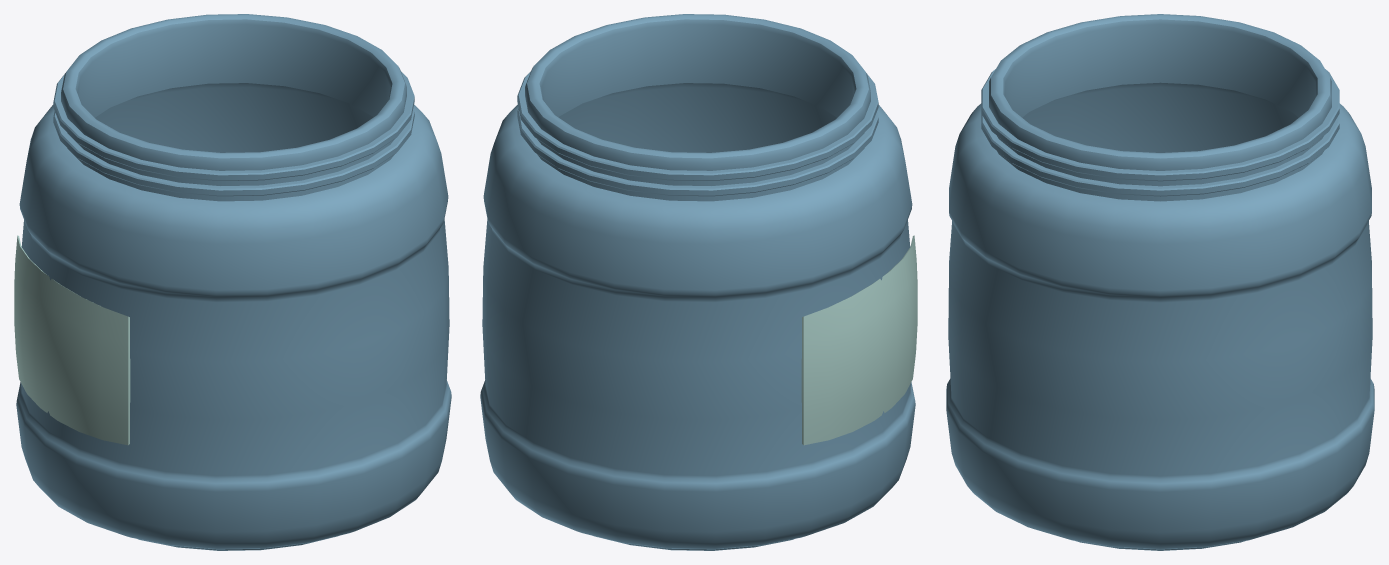
The model's file is Pot.FBX.
3 views of the same model, side by side, from view 1: azimuth 30°, elevation 25°; view 2: azimuth 150°, elevation 25°; view 3: azimuth 270°, elevation 25° (orthographic).
Visible parts, largest first — view 1: Box073; view 2: Box073; view 3: Box073.
Part boxes in pixels (<box>): Box073: <box>14,14,451,550</box>; Box073: <box>480,14,917,550</box>; Box073: <box>946,14,1374,550</box>.
Bounding box in the file's own units: 675 × 669 × 661.
